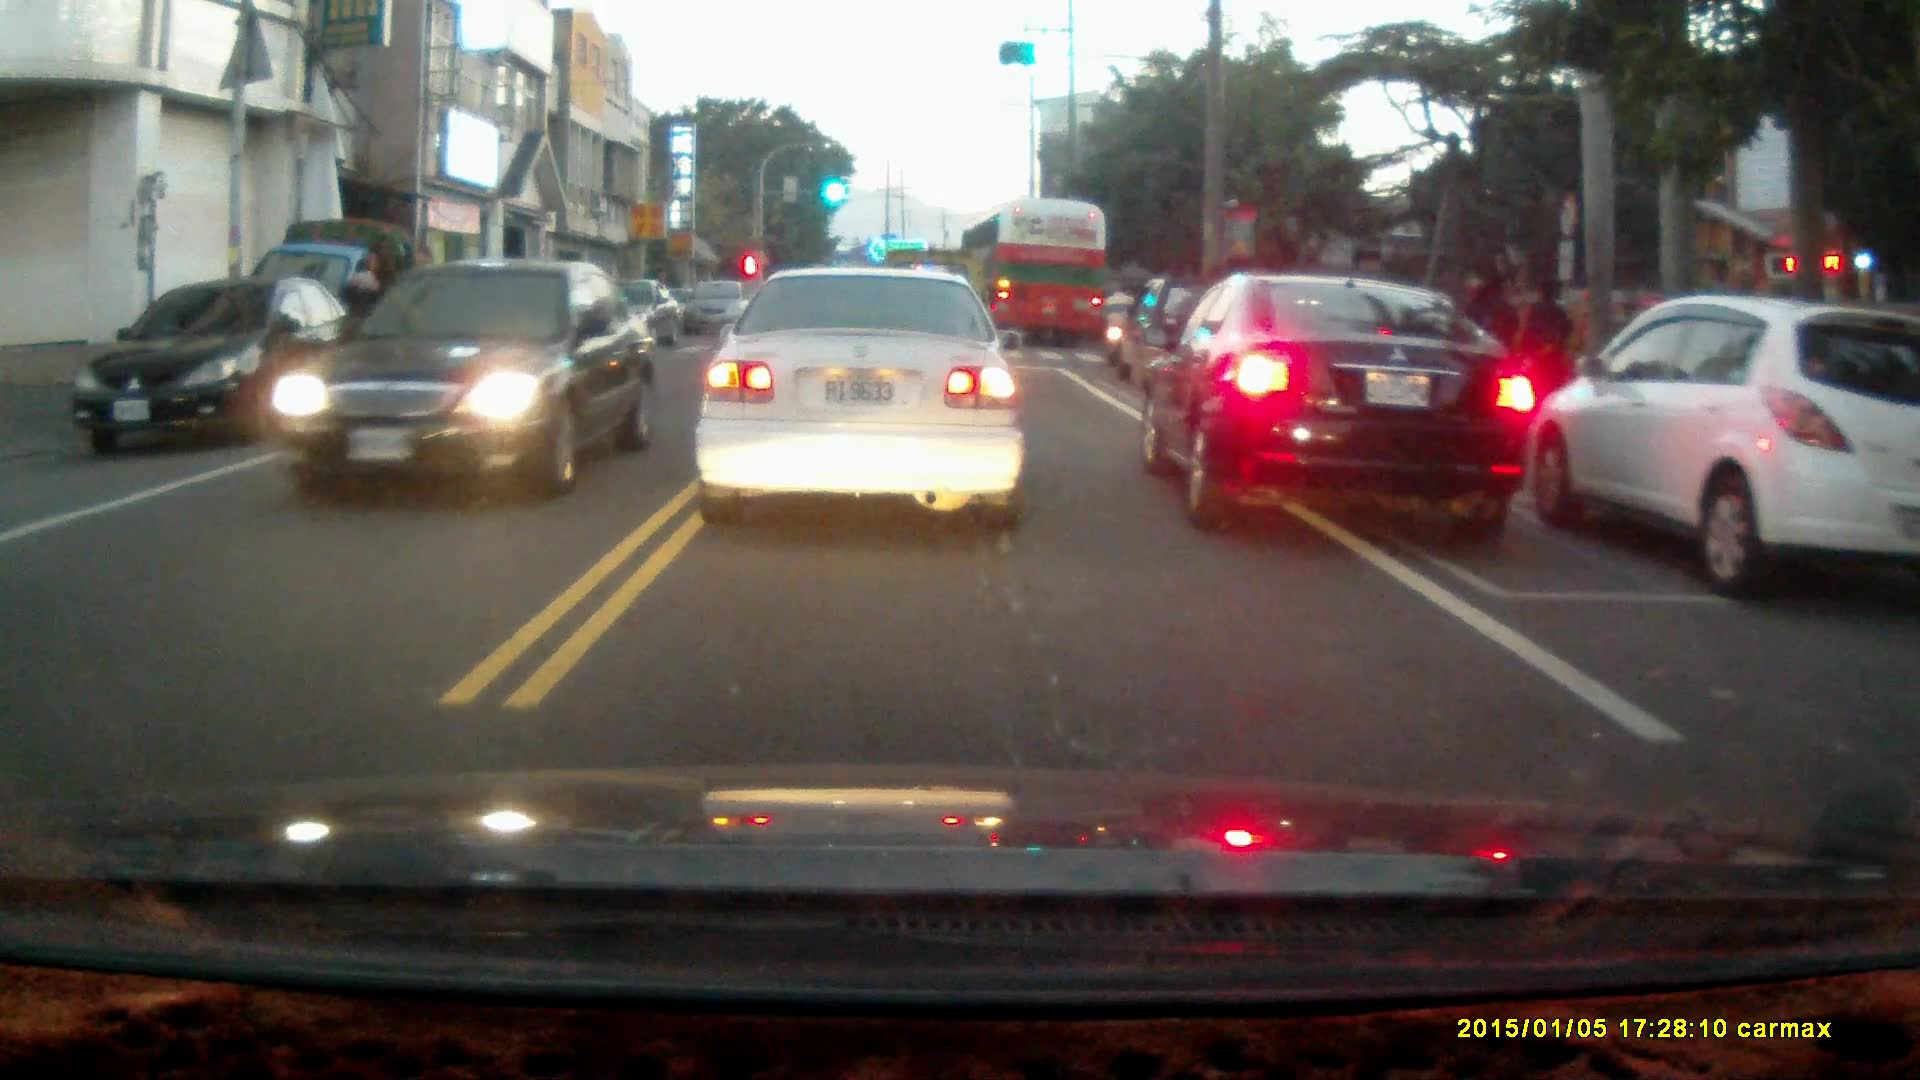pedestrian: (341, 246, 395, 399), (1520, 276, 1575, 411), (1465, 274, 1512, 403)
rider: (1099, 282, 1139, 363)
vehicle: (1515, 292, 1920, 606), (1142, 274, 1540, 538), (270, 258, 659, 498), (692, 263, 1028, 535), (73, 275, 355, 453), (234, 223, 458, 401), (961, 205, 1107, 353), (684, 280, 752, 339)
